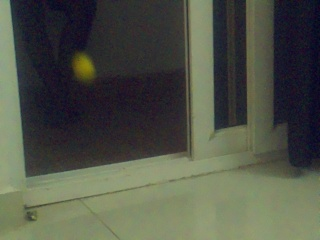ball: (72, 52, 95, 82)
